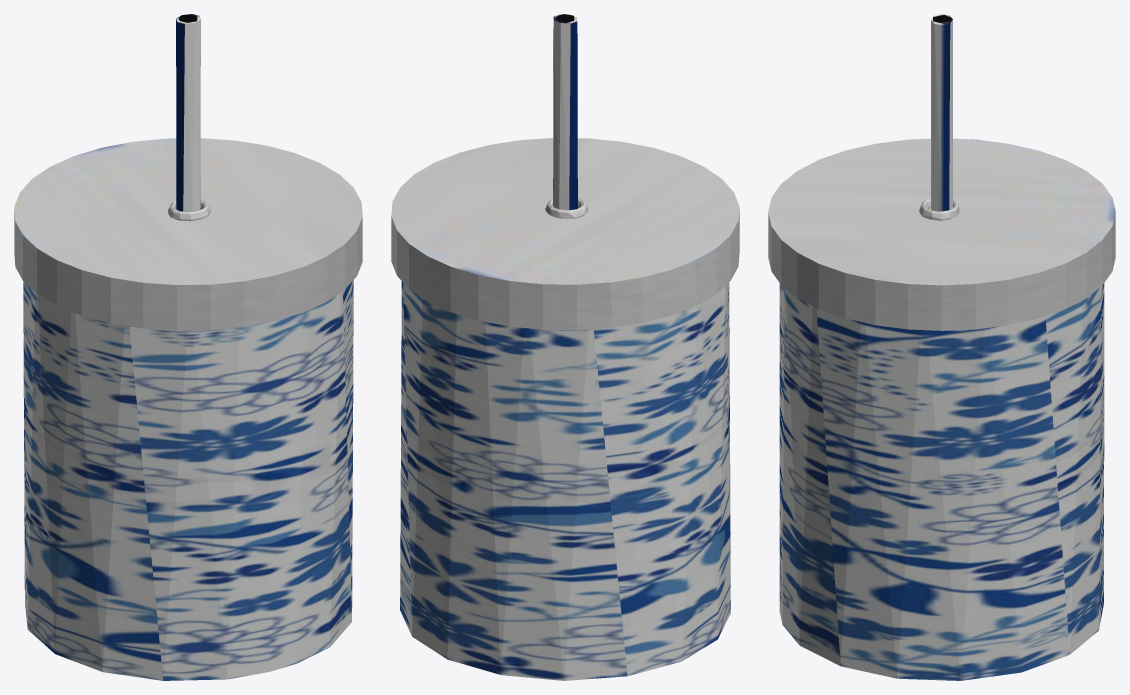
The model's file is cup2.dae.
The picture shows the model from 3 angles, left to right: view 1: azimuth 30°, elevation 25°; view 2: azimuth 150°, elevation 25°; view 3: azimuth 270°, elevation 25°; orthographic projection.
Visible parts, largest first — view 1: Cylinder_003; view 2: Cylinder_003; view 3: Cylinder_003.
Boxes of the visible parts, <box> form: Cylinder_003: <box>14,14,362,680</box>; Cylinder_003: <box>391,14,739,680</box>; Cylinder_003: <box>768,14,1115,680</box>.
Bounding box in the file's own units: 0.245 × 0.2443 × 0.4595.
Materials: 5 (5 with a texture image).
